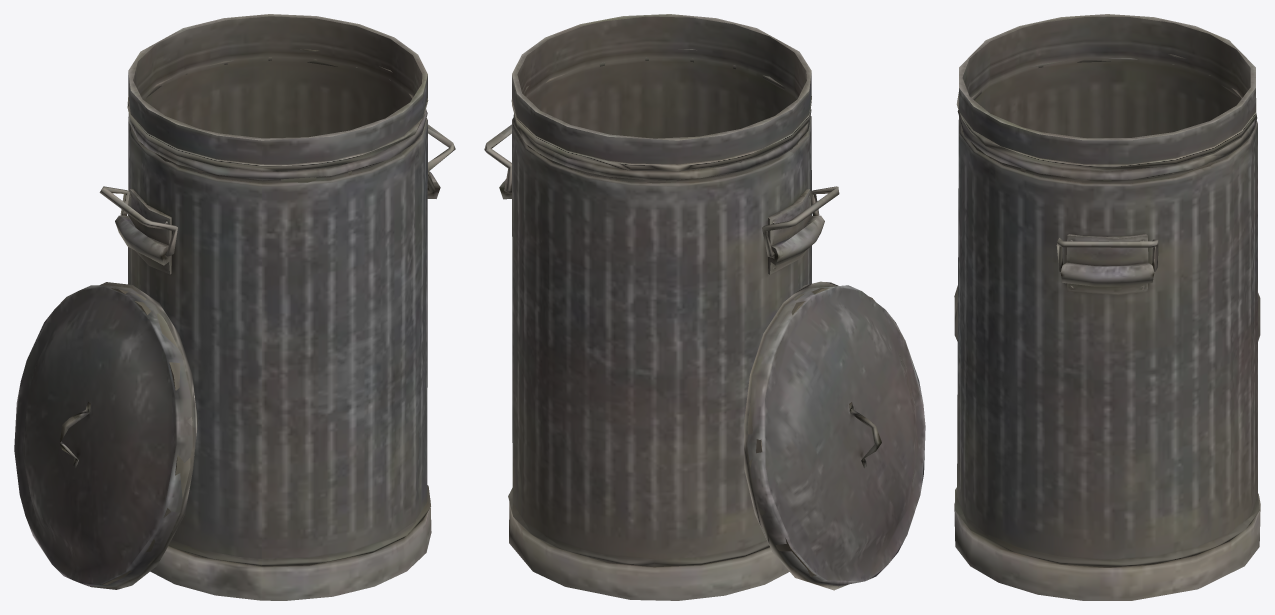
Rendered from metal-trash-can.glb.
3 views of the same model, side by side, from view 1: azimuth 30°, elevation 25°; view 2: azimuth 150°, elevation 25°; view 3: azimuth 270°, elevation 25° (orthographic).
Visible parts, largest first — view 1: metal_trash_can_handle_left; view 2: metal_trash_can_handle_left; view 3: metal_trash_can_handle_left.
Part boxes in pixels (<box>): metal_trash_can_handle_left: <box>14,14,455,600</box>; metal_trash_can_handle_left: <box>484,14,925,600</box>; metal_trash_can_handle_left: <box>954,14,1260,600</box>.
Bounding box in the file's own units: 0.7771 × 0.9062 × 0.548.
Materials: 1 (1 with a texture image).
